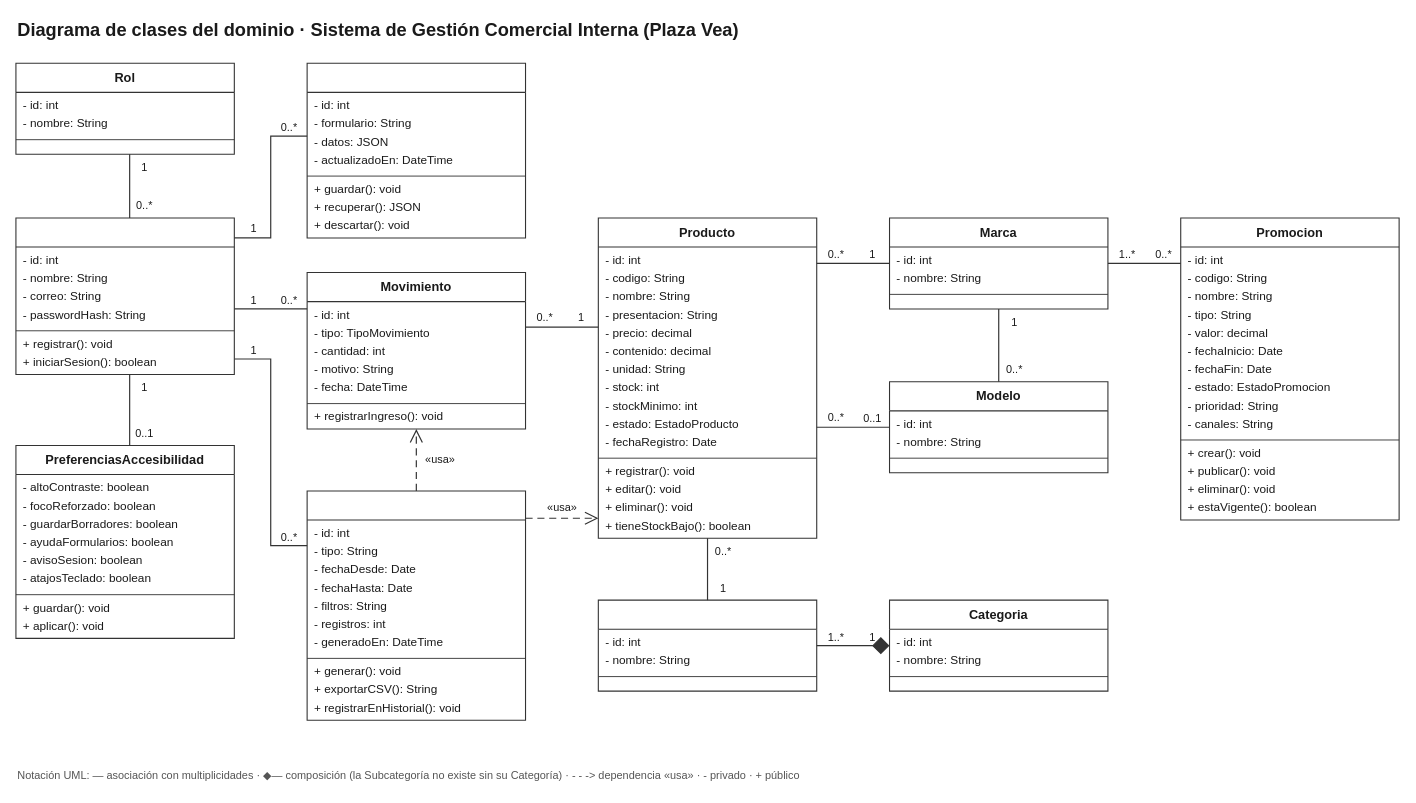
Image size: 1416x803. Some labels were removed from this diagram. The box of each missing label's shape, as (x1, y1, x2, y2) in pixels:
Borrador: (306, 62, 526, 238)
Reporte: (306, 490, 526, 720)
Subcategoria: (597, 599, 817, 691)
Usuario: (15, 217, 234, 375)
